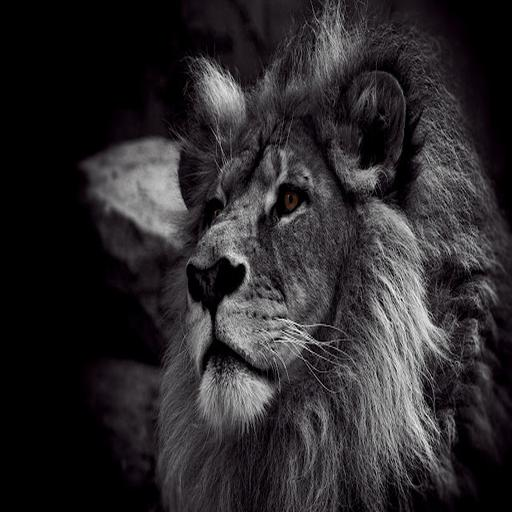Lion: (130, 2, 512, 508)
